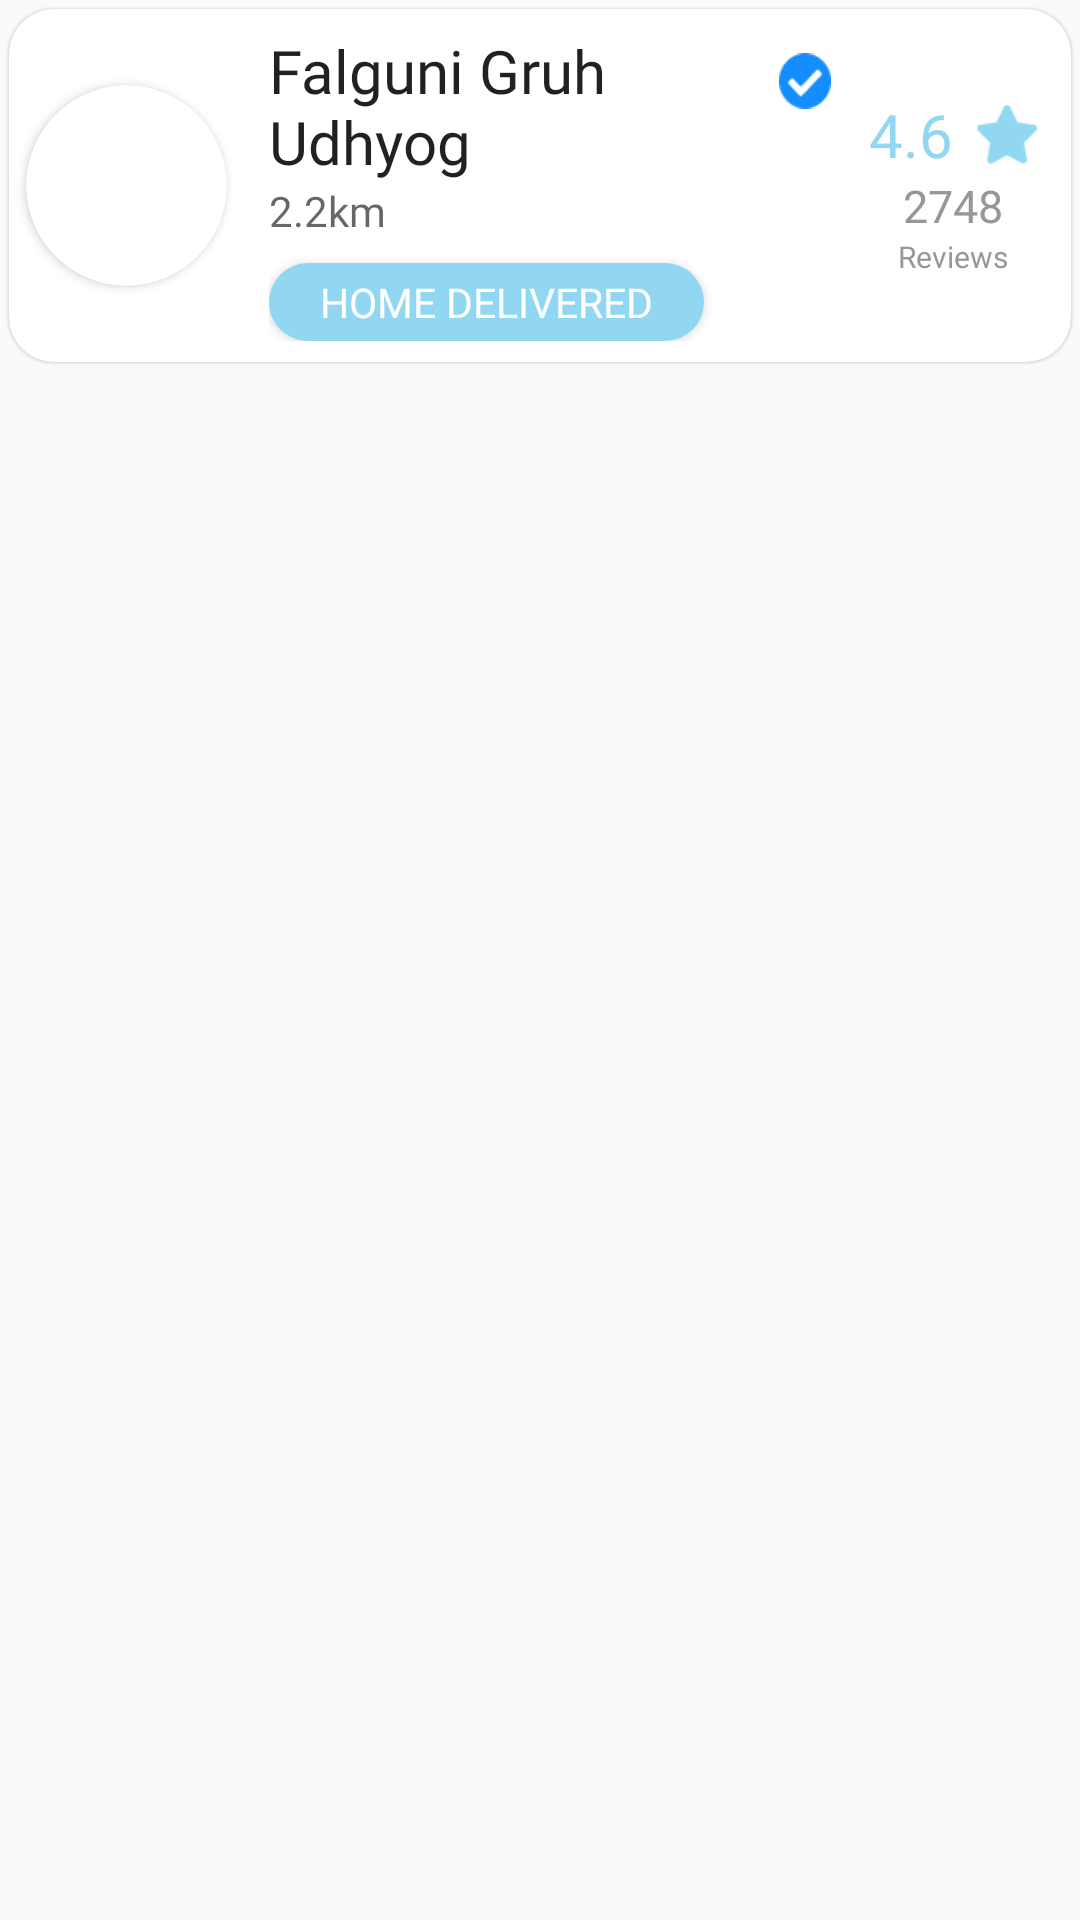

Icons on this 1080x1920 Android screen, each with its box as (x1, y1, x2, y2):
seller list rating star: (977, 105, 1037, 164)
verified: (779, 53, 831, 109)
